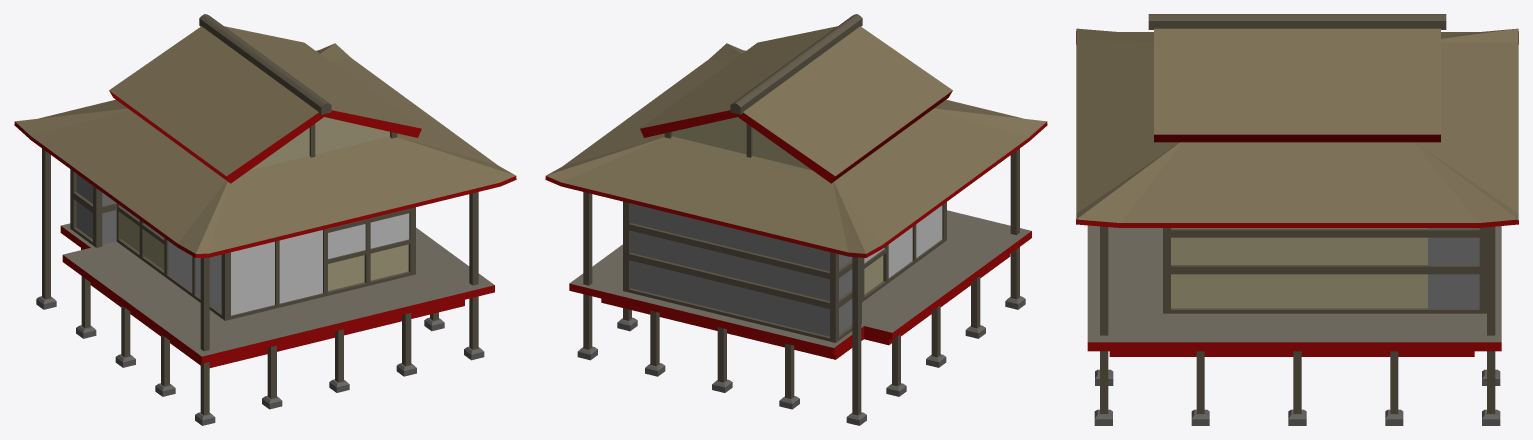
Rendered from TeaHouse.fbx.
3 views of the same model, side by side, from view 1: azimuth 30°, elevation 25°; view 2: azimuth 150°, elevation 25°; view 3: azimuth 270°, elevation 25° (orthographic). The views are drawn at different scales.
Visible parts, largest first — view 1: Tea_house; view 2: Tea_house; view 3: Tea_house.
Boxes of the visible parts, bbox=[...] form: Tea_house: bbox=[14, 14, 516, 425]; Tea_house: bbox=[545, 14, 1047, 425]; Tea_house: bbox=[1076, 14, 1518, 425].
Size of the model in its own units: 812 by 655 by 795.
